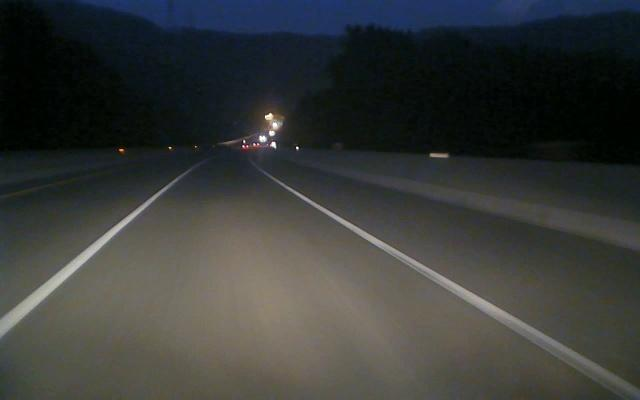lane: (267, 174, 640, 400), (0, 177, 180, 339)
